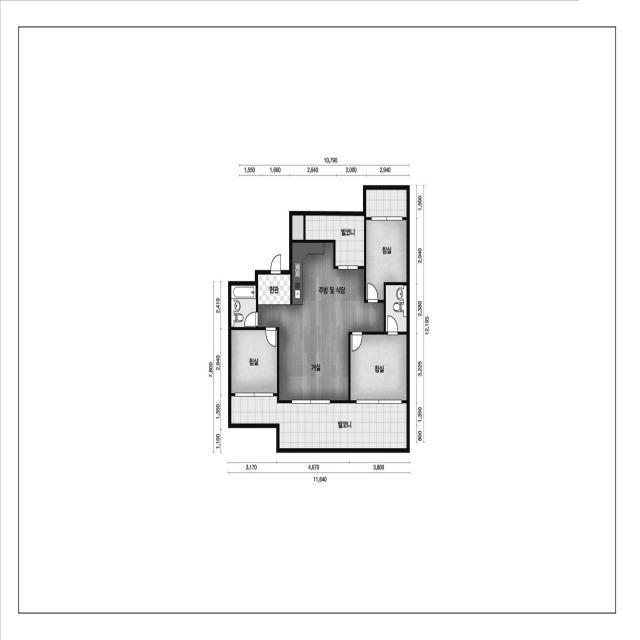space_balconi: (231, 396, 407, 448), (306, 216, 364, 266), (366, 190, 406, 217)
space_bedroom: (351, 335, 407, 400), (366, 220, 407, 300), (231, 330, 277, 393)
space_front: (258, 275, 290, 305)
space_kitchen: (292, 243, 364, 305)
space_living_room: (258, 303, 384, 400)
space_other: (292, 215, 304, 240)
space_toilet: (231, 286, 256, 327), (386, 285, 407, 331)
